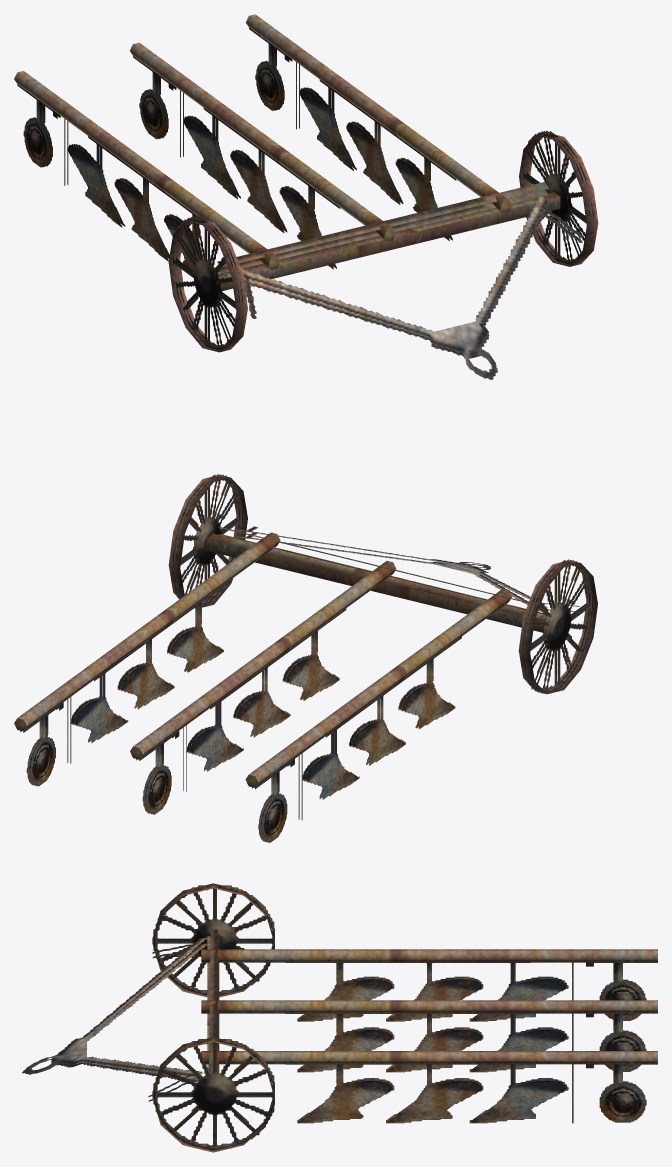
File: plough.glb
3 renders of one model, top to bottom at view 1: azimuth 30°, elevation 25°; view 2: azimuth 150°, elevation 25°; view 3: azimuth 270°, elevation 25°, orthographic. The views are drawn at different scales.
Visible parts, largest first — view 1: plough; view 2: plough; view 3: plough.
Boxes of the visible parts, x1,y1,x2,y2 form: plough: [14, 14, 598, 379]; plough: [14, 474, 597, 842]; plough: [22, 883, 657, 1152].
Size of the model in its own units: 3.08 by 1.01 by 5.27.
Materials: 1 (1 with a texture image).
